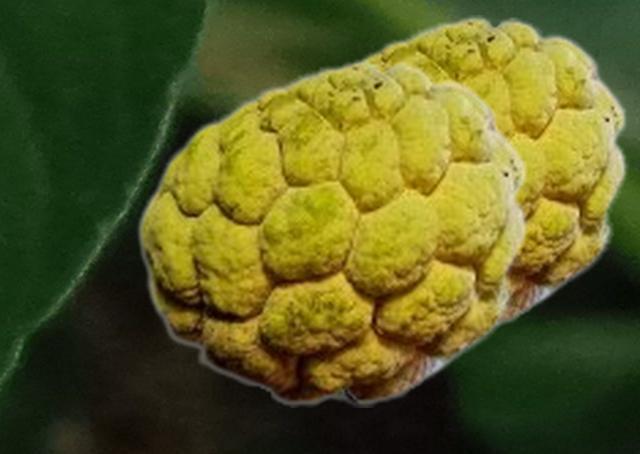atis: (135, 59, 528, 406), (355, 15, 627, 329)
